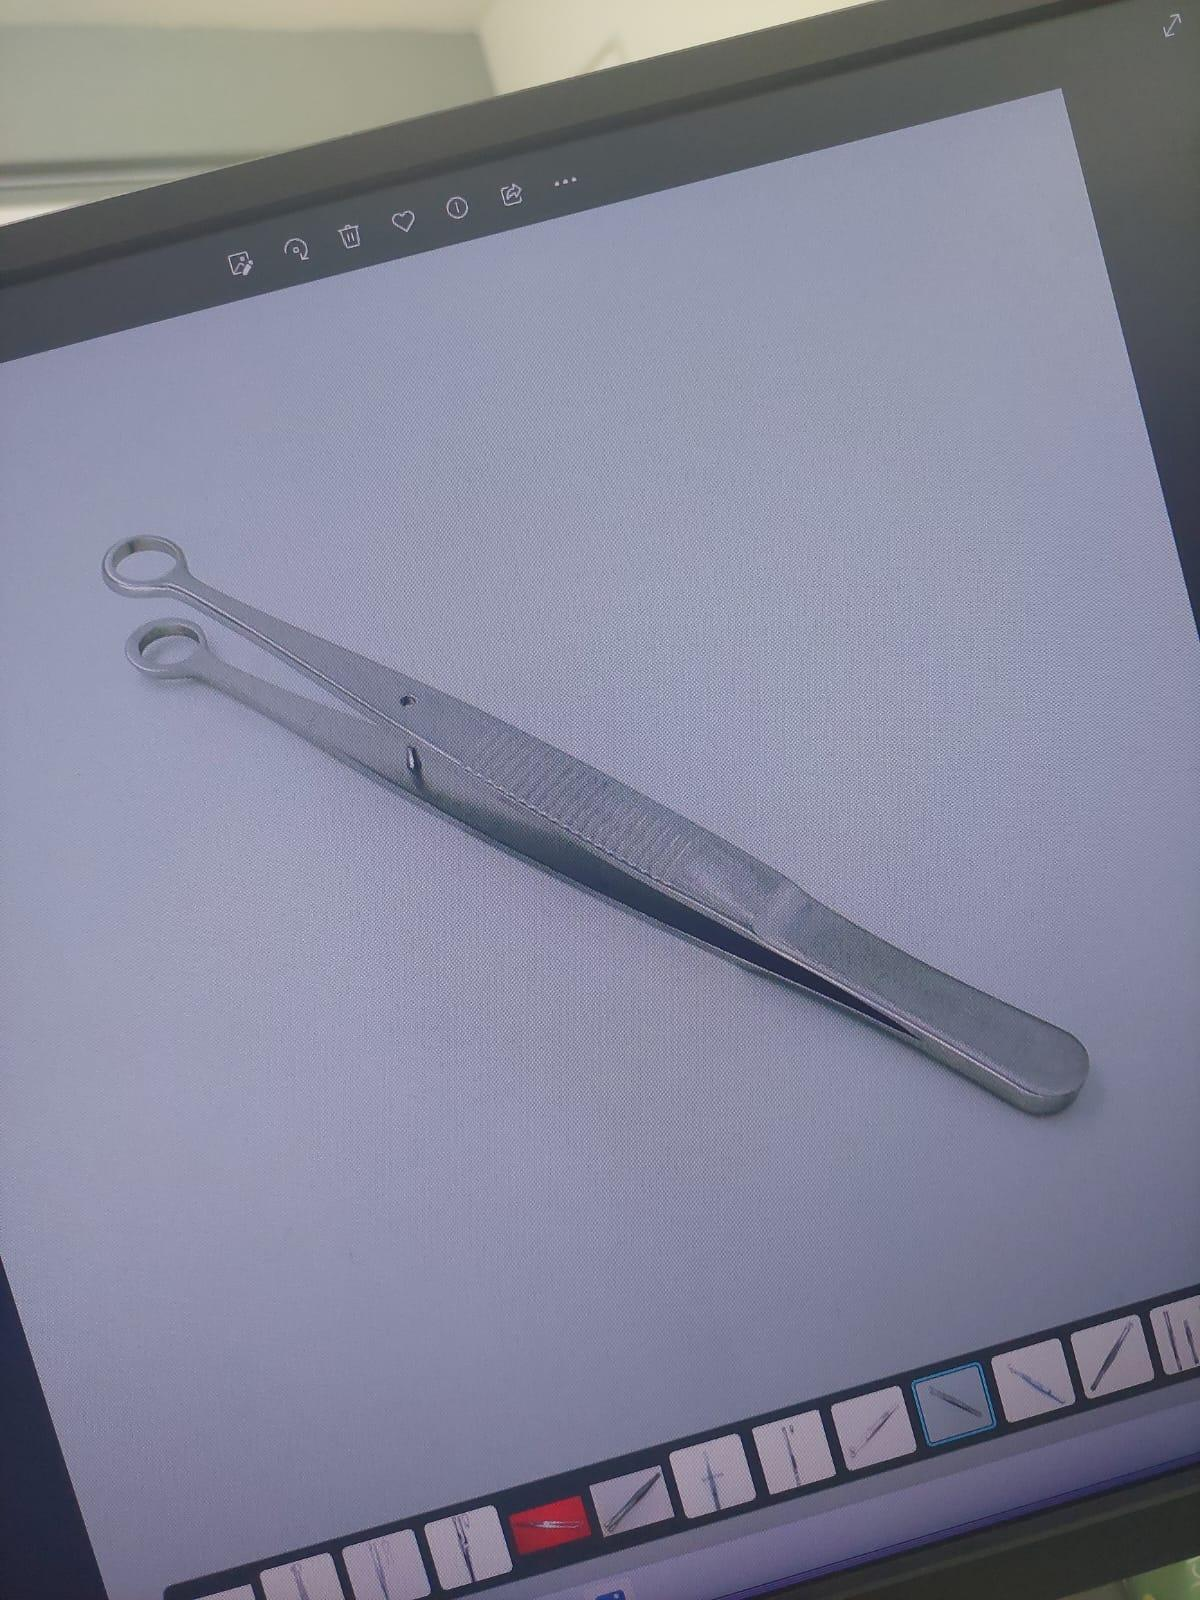Eye Intestinal Forceps: (90, 510, 1102, 1132)
